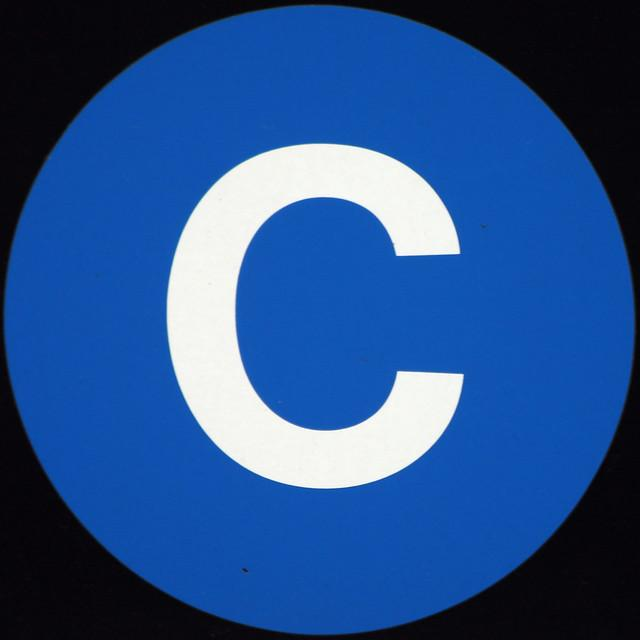C: (132, 118, 504, 516)
